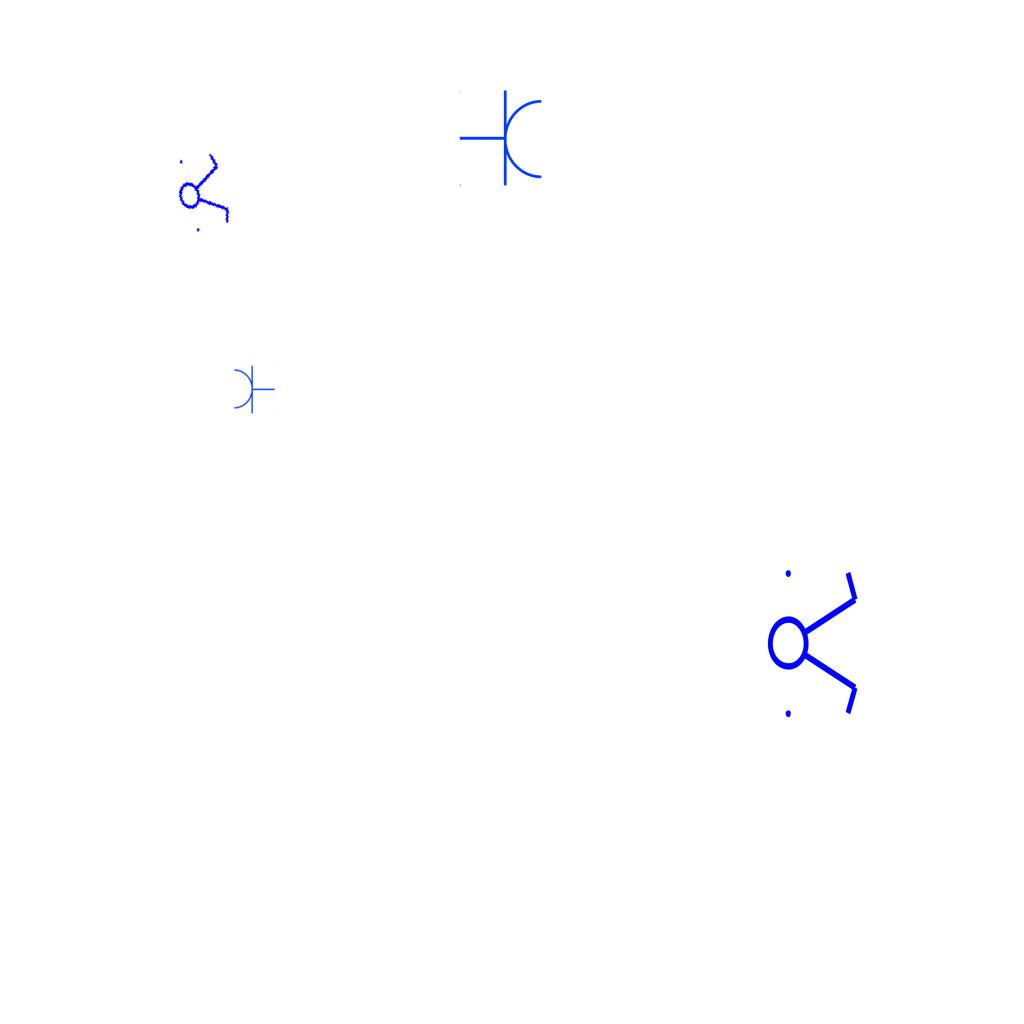Schukosteckdose_einfach: (459, 89, 546, 189), (232, 364, 275, 414)
Serienschalter: (766, 558, 862, 726), (168, 145, 236, 239)
